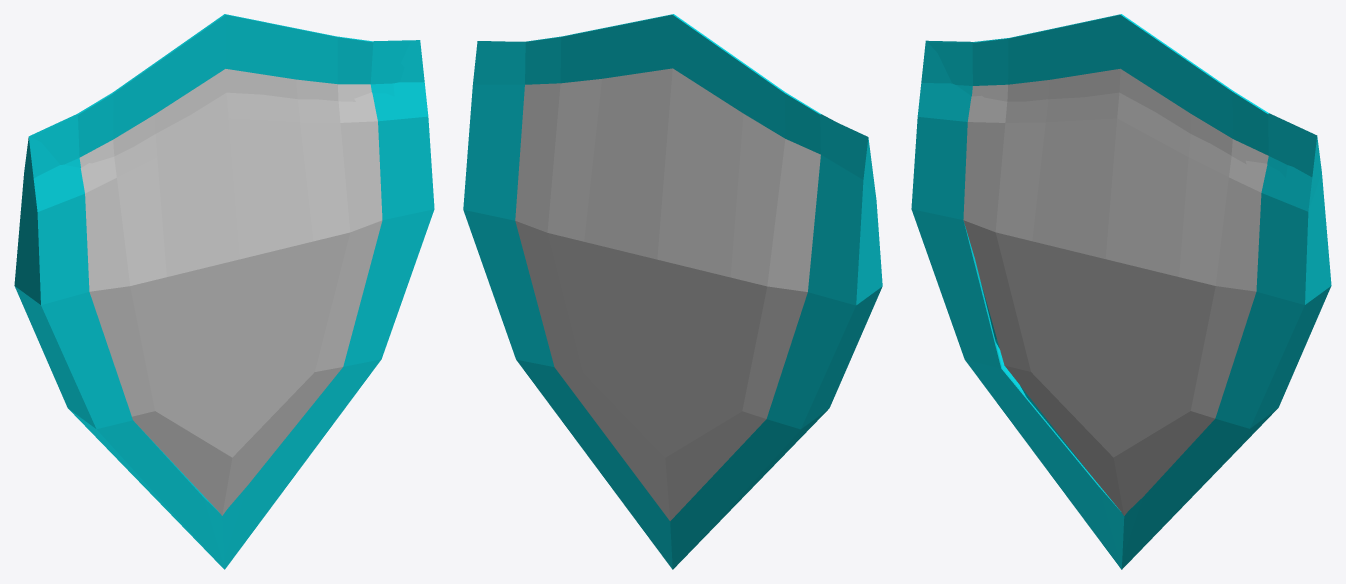
Rendered from Shield.fbx.
3 renders of one model, left to right at view 1: azimuth 30°, elevation 25°; view 2: azimuth 150°, elevation 25°; view 3: azimuth 330°, elevation 25°, orthographic.
Parts seen in each view (by area): view 1: Cube; view 2: Cube; view 3: Cube.
Boxes of the visible parts, x1,y1,x2,y2 form: Cube: (14, 14, 434, 569); Cube: (463, 14, 882, 569); Cube: (911, 14, 1331, 569).
Size of the model in its own units: 203 by 274 by 28.05.
